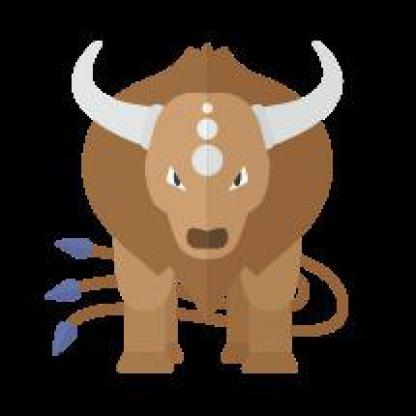Tauros: (1, 15, 415, 415)
